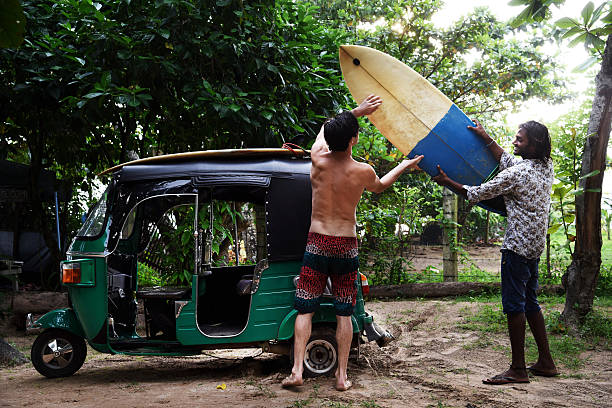threewheel: (29, 158, 377, 375)
